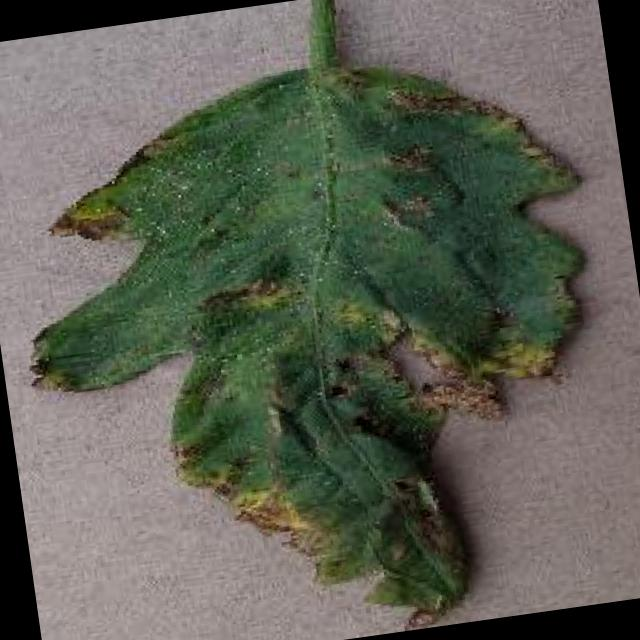bacterial spot: (31, 0, 600, 632)
